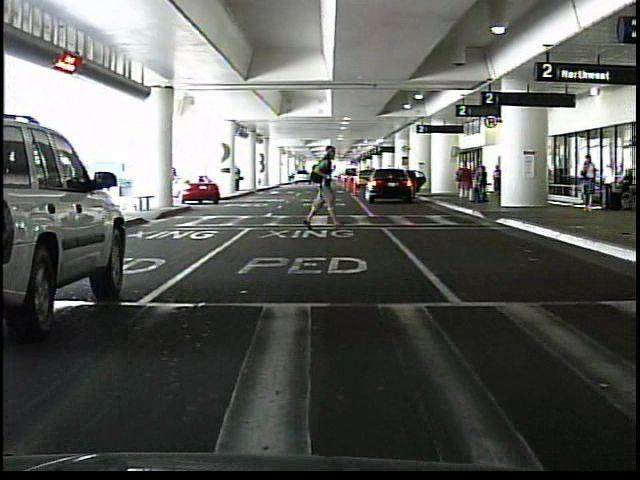person: (296, 147, 342, 229), (454, 159, 476, 202), (579, 156, 595, 213), (476, 166, 489, 201), (491, 165, 502, 194), (233, 164, 243, 190)
